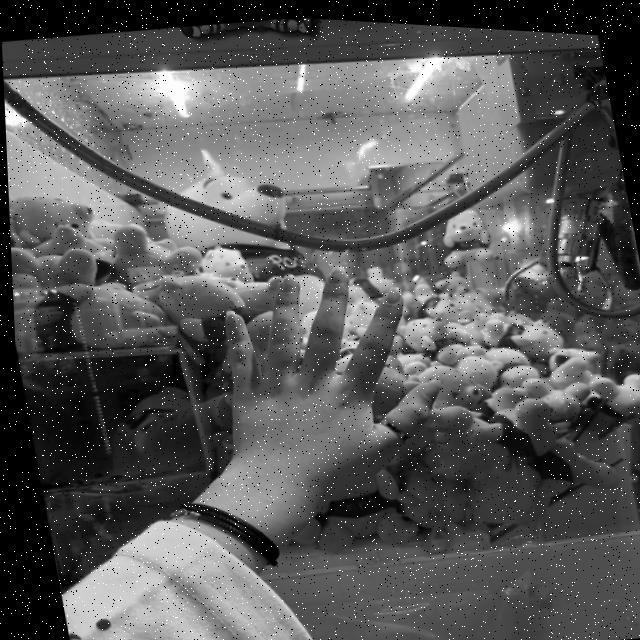no-gloves: (196, 242, 458, 508)
